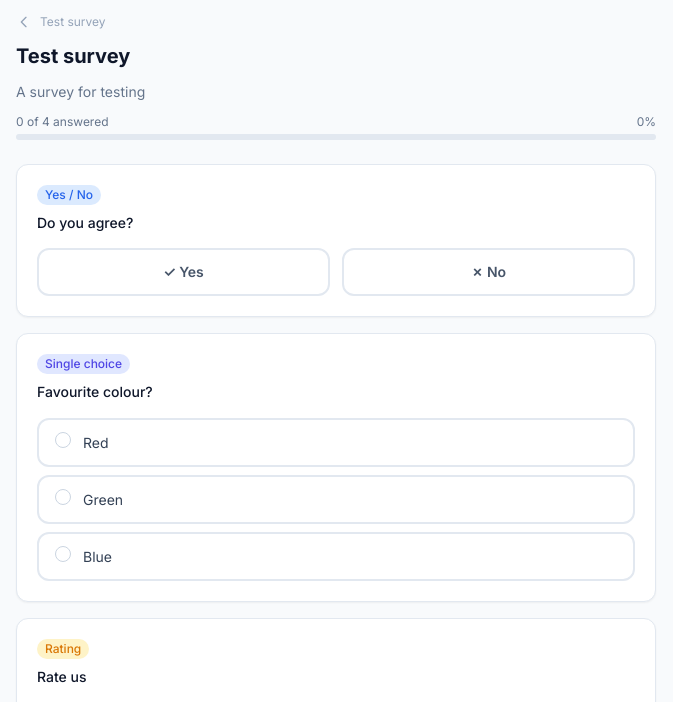
Test: FillPage — auto-save › shows Saved badge after answer stored
This screenshot has width=673, height=702.
Expected: the text "Do you agree?" is shown, [37,214,133,231]
Click the button "✗ No": x=488, y=272 [342,248,635,296]
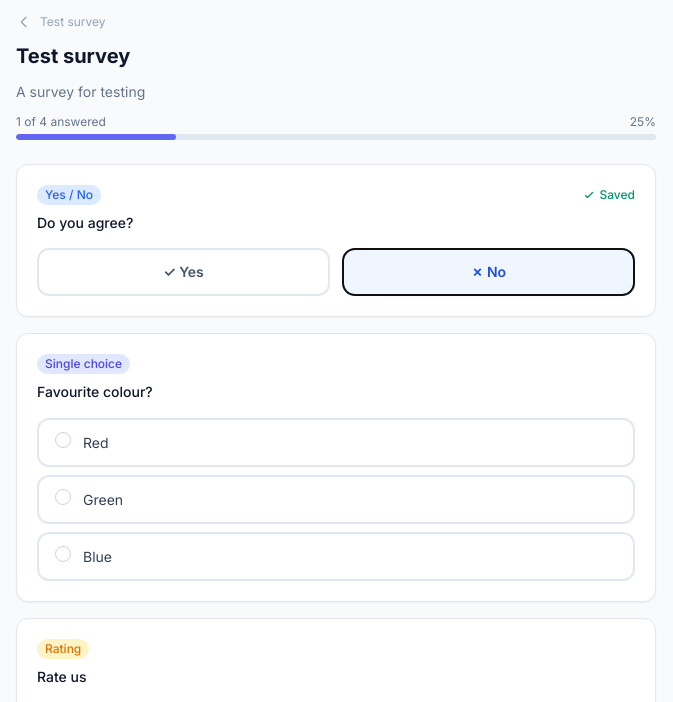
Now the text "Saved" is shown, box [584,187,635,203]
